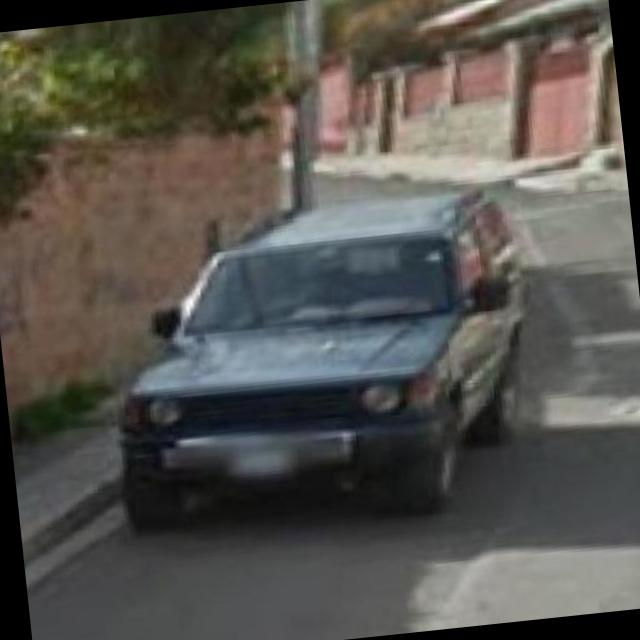car: (108, 160, 540, 532)
